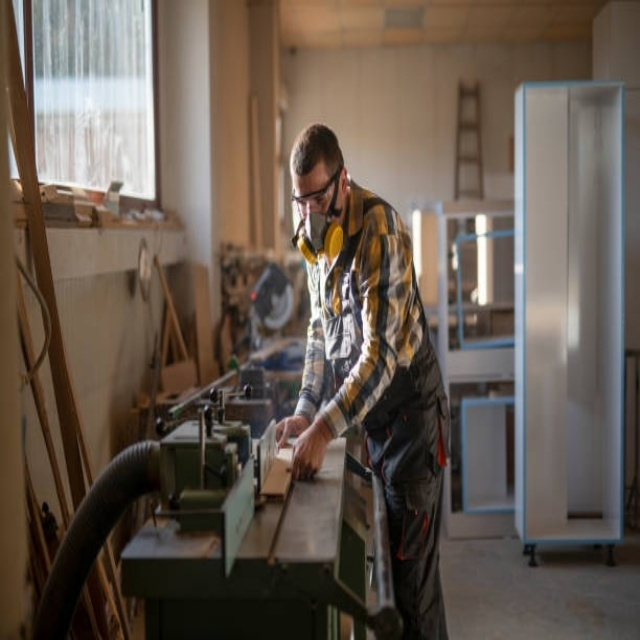Gafas: (292, 164, 343, 209)
Mascara: (291, 202, 346, 267)
Sin_guantes: (287, 414, 332, 474)
